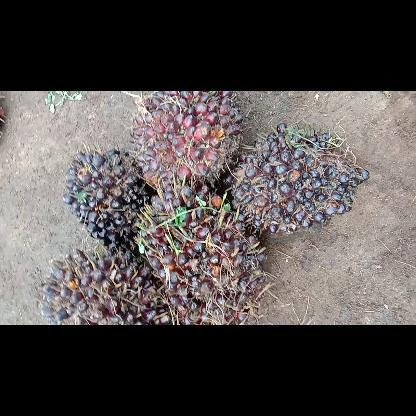TBS mentah: (133, 182, 269, 324), (224, 119, 374, 236), (125, 91, 247, 193), (35, 246, 176, 324), (60, 145, 154, 251)
